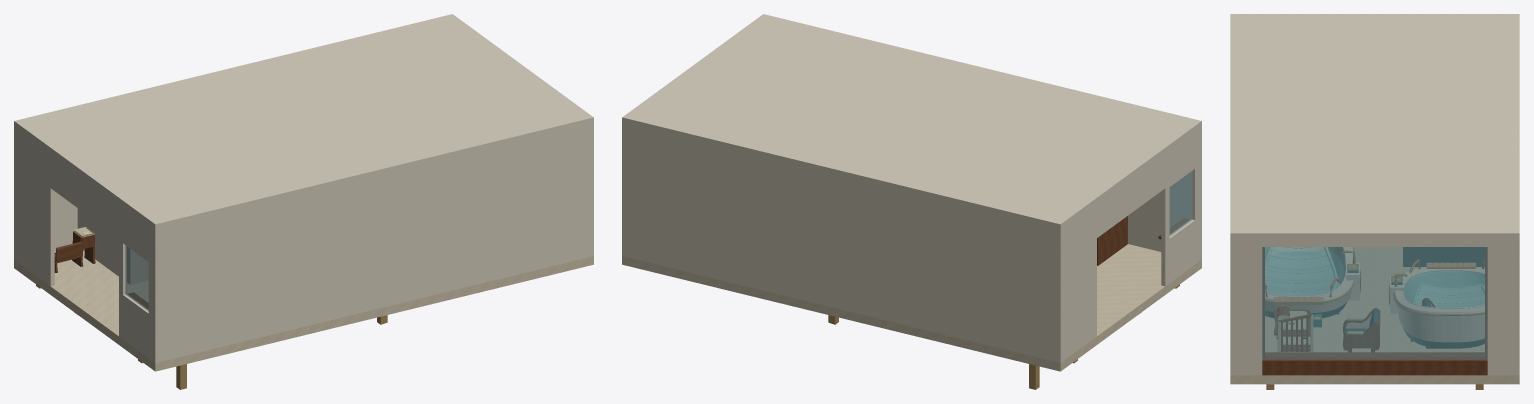
The model's file is QuietGroveBank_529_r001.glb.
3 renders of one model, left to right at view 1: azimuth 30°, elevation 25°; view 2: azimuth 150°, elevation 25°; view 3: azimuth 270°, elevation 25°, orthographic. The views are drawn at different scales.
Visible parts, largest first — view 1: QG529_Ceiling, QG529_NorthSide, QG529_RoomFloor, QG529_EntryShoulderSouth, QG529_EntryHeader, QG529_StreetWindowLower, QG529_WashEntrySide, QG529_SouthSide, QG529_StreetWindowUpper, QG529_ScreenedStreetGlass; view 2: QG529_Ceiling, QG529_SouthSide, QG529_RoomFloor, QG529_EntryShoulderSouth, QG529_NorthSide, QG529_EntryHeader, QG529_StreetWindowLower, QG529_StreetWindowUpper, QG529_ScreenedStreetGlass, QG529_EntryPrivacyDogleg; view 3: QG529_Ceiling, QGB529_PrivateCourtGlass, QG529_RoomFloor, QG529_QG529_ReservedRestSupport_02__Hollow continuous basin , QGB529_CourtNorthPier, QGB529_CourtSouthPier, QGB529_CourtSill, QG529_QG529_ReservedRestSupport_01__Contoured broad immersed, QGB529_CourtHeader, QG529_QG529_ReservedRestSupport_01__Hollow continuous basin , QG529_PositiveWetPrivacyBlade, QGB529_DeepReveal_0.34 (+7 smaller).
Part boxes in pixels (x1,y1,x2,y2): QG529_Ceiling: (14,14,593,229); QG529_NorthSide: (153,123,593,362); QG529_RoomFloor: (14,250,593,371); QG529_EntryShoulderSouth: (16,128,54,286); QG529_EntryHeader: (49,152,119,238); QG529_StreetWindowLower: (119,292,152,360); QG529_WashEntrySide: (77,208,133,284); QG529_SouthSide: (14,127,77,260); QG529_StreetWindowUpper: (119,204,152,264); QG529_ScreenedStreetGlass: (125,245,148,310); QG529_Ceiling: (622,14,1201,229); QG529_SouthSide: (622,123,1062,362); QG529_RoomFloor: (622,244,1201,371); QG529_EntryShoulderSouth: (1063,204,1096,360); QG529_NorthSide: (1128,127,1201,260); QG529_EntryHeader: (1096,152,1166,237); QG529_StreetWindowLower: (1161,217,1199,286); QG529_StreetWindowUpper: (1163,128,1199,190); QG529_ScreenedStreetGlass: (1169,171,1192,235); QG529_EntryPrivacyDogleg: (1097,216,1127,265); QG529_Ceiling: (1230,14,1519,238); QGB529_PrivateCourtGlass: (1262,247,1487,359); QG529_RoomFloor: (1230,247,1519,384); QG529_QG529_ReservedRestSupport_02__Hollow continuous basin : (1395,267,1484,348); QGB529_CourtNorthPier: (1487,239,1519,375); QGB529_CourtSouthPier: (1230,239,1262,375); QGB529_CourtSill: (1262,358,1487,375); QG529_QG529_ReservedRestSupport_01__Contoured broad immersed: (1265,247,1337,295); QGB529_CourtHeader: (1262,239,1487,246); QG529_QG529_ReservedRestSupport_01__Hollow continuous basin : (1265,247,1353,317); QG529_PositiveWetPrivacyBlade: (1403,247,1484,266); QGB529_DeepReveal_0.34: (1265,352,1484,357).
Bounding box in the file's own units: 12.9 × 5.31 × 7.2.
79 materials, 49 textured.
